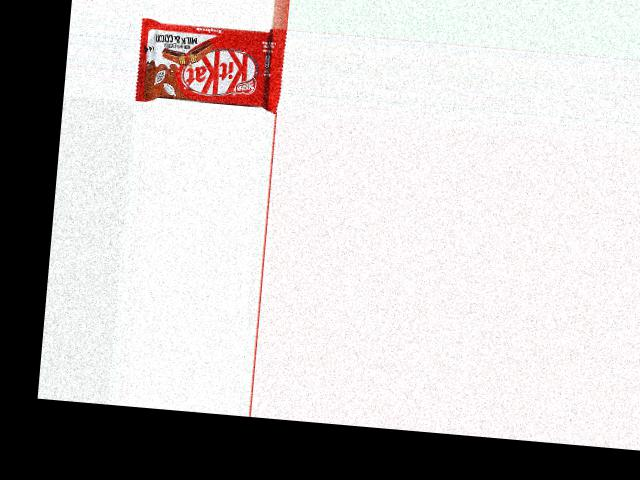chocolate: (133, 16, 286, 113)
